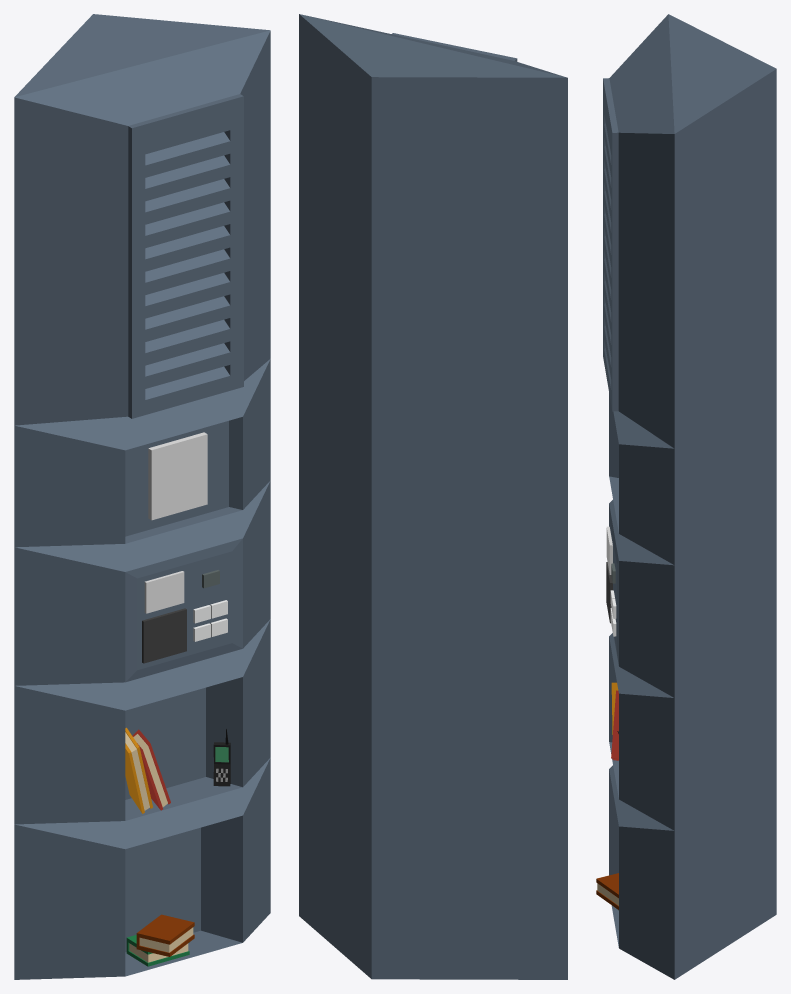
File: Cabinet-3.fbx
The picture shows the model from 3 angles, left to right: view 1: azimuth 30°, elevation 25°; view 2: azimuth 150°, elevation 25°; view 3: azimuth 270°, elevation 25°; orthographic projection. The views are drawn at different scales.
Parts seen in each view (by area): view 1: Cabinet-3; view 2: Cabinet-3; view 3: Cabinet-3.
Boxes of the visible parts, x1,y1,x2,y2 form: Cabinet-3: [14, 14, 270, 979]; Cabinet-3: [299, 14, 567, 979]; Cabinet-3: [596, 14, 776, 979].
Size of the model in its own units: 0.9197 by 3.02 by 0.5777.
